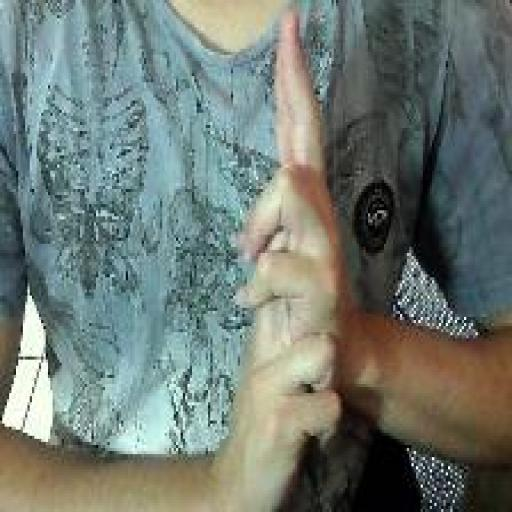Hitsuji -ram-: (230, 6, 351, 512)
